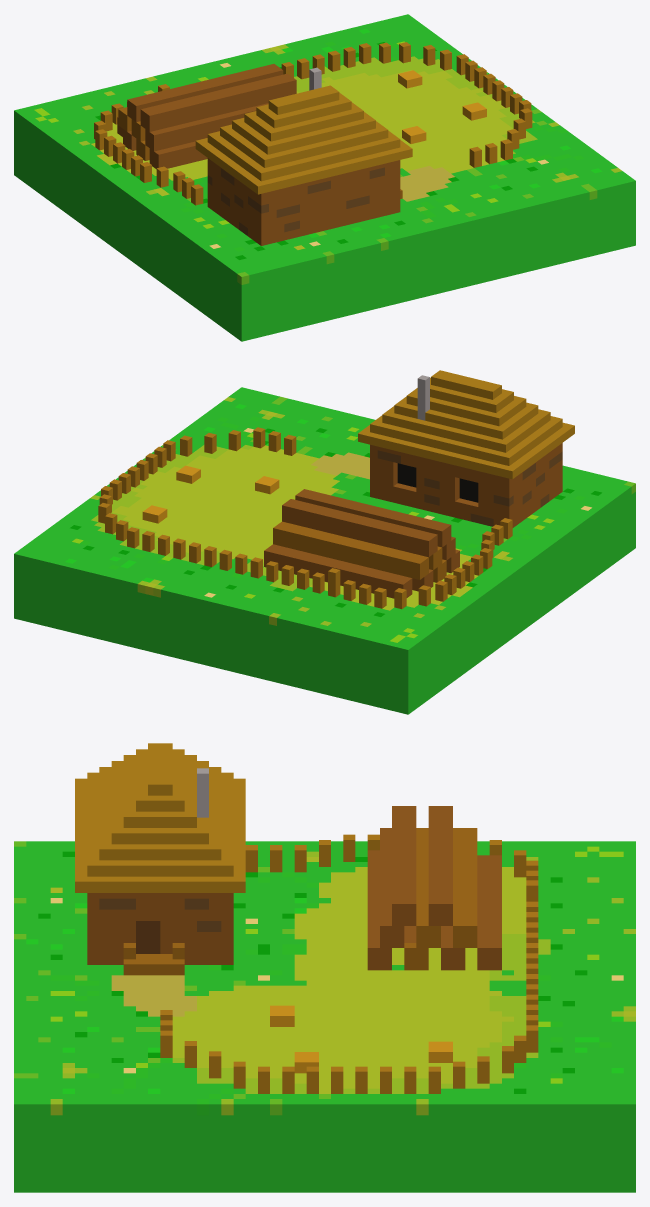
The model's file is lumber.obj.
3 renders of one model, top to bottom at view 1: azimuth 30°, elevation 25°; view 2: azimuth 150°, elevation 25°; view 3: azimuth 270°, elevation 25°, orthographic. The views are drawn at different scales.
Parts seen in each view (by area): view 1: grass; view 2: grass; view 3: grass.
Boxes of the visible parts, x1,y1,x2,y2 form: grass: (14,14,635,341); grass: (14,370,635,714); grass: (14,743,635,1192).
Bounding box in the file's own units: 5.1 × 2.3 × 5.1.
Materials: 1 (1 with a texture image).
